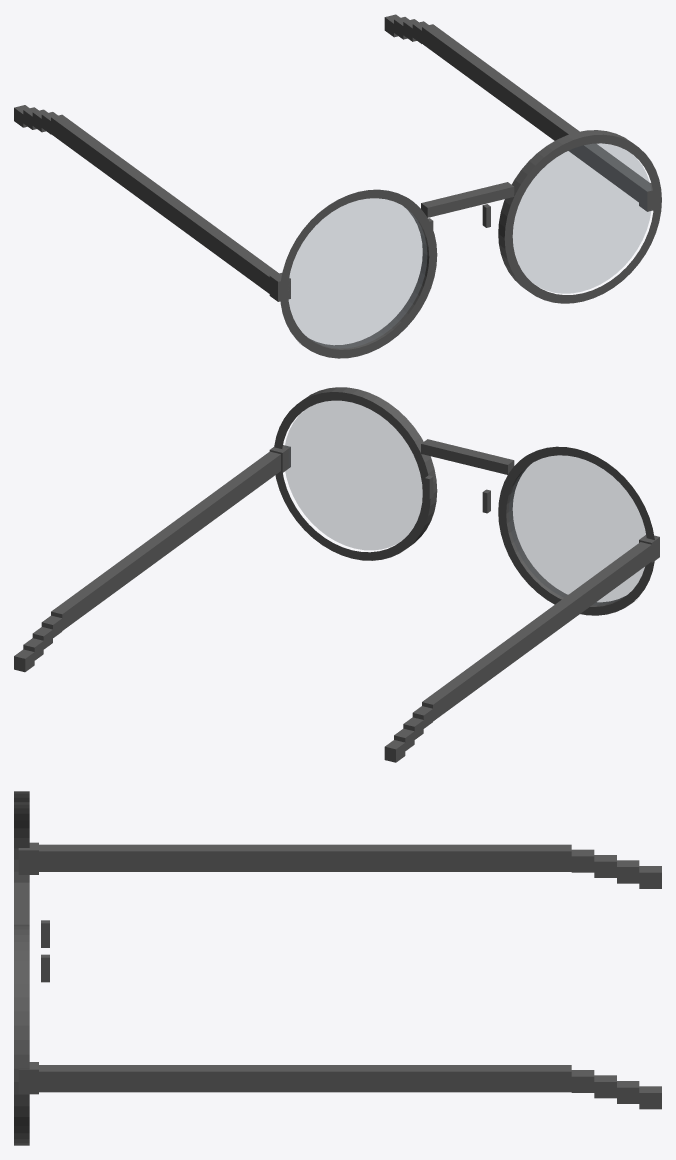
Rendered from p-round-s.glb.
The picture shows the model from 3 angles, top to bottom: view 1: azimuth 30°, elevation 25°; view 2: azimuth 150°, elevation 25°; view 3: azimuth 270°, elevation 25°; orthographic projection. The views are drawn at different scales.
Visible parts, largest first — view 1: Lens, Frame; view 2: Lens, Frame; view 3: Frame.
Boxes of the visible parts, x1,y1,x2,y2 form: Lens: [289, 143, 650, 348]; Frame: [14, 14, 661, 358]; Lens: [285, 401, 645, 604]; Frame: [14, 387, 659, 762]; Frame: [14, 791, 661, 1145].
Size of the model in its own units: 119 by 49 by 144.
